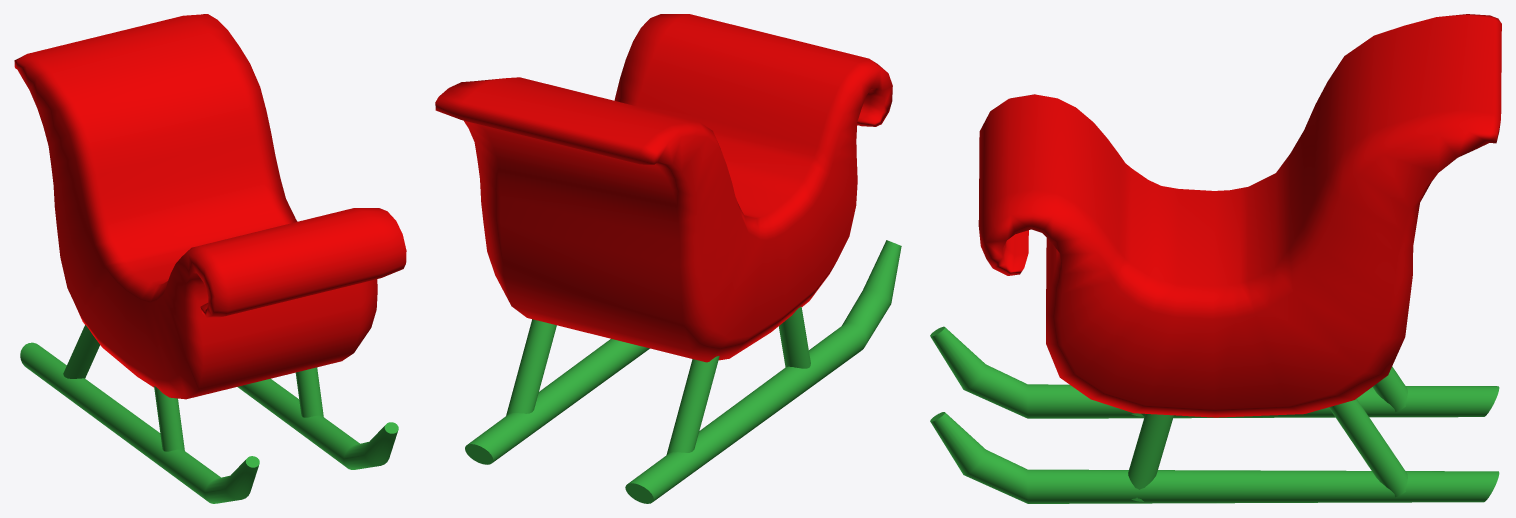
File: sleigh.fbx
3 renders of one model, left to right at view 1: azimuth 30°, elevation 25°; view 2: azimuth 150°, elevation 25°; view 3: azimuth 270°, elevation 25°, orthographic. The views are drawn at different scales.
Visible parts, largest first — view 1: SidePiece, pCylinder1 (×2), pCylinder3 (×2), pCylinder2; view 2: SidePiece, pCylinder1 (×2), pCylinder2 (×2), pCylinder3; view 3: SidePiece, pCylinder1 (×2), pCylinder2 (×2), pCylinder3.
Part boxes in pixels (box(x1,y1,x2,y2)): SidePiece: box(14, 14, 406, 399); pCylinder1 (×2): box(20, 342, 398, 503); pCylinder3 (×2): box(154, 367, 323, 451); pCylinder2: box(63, 325, 99, 378); SidePiece: box(435, 14, 892, 362); pCylinder1 (×2): box(465, 240, 901, 503); pCylinder2 (×2): box(506, 319, 719, 454); pCylinder3: box(779, 306, 810, 368); SidePiece: box(978, 14, 1501, 417); pCylinder1 (×2): box(930, 326, 1499, 503); pCylinder2 (×2): box(1329, 366, 1407, 497); pCylinder3: box(1128, 414, 1173, 501).
Size of the model in its own units: 127 by 199 by 258.
